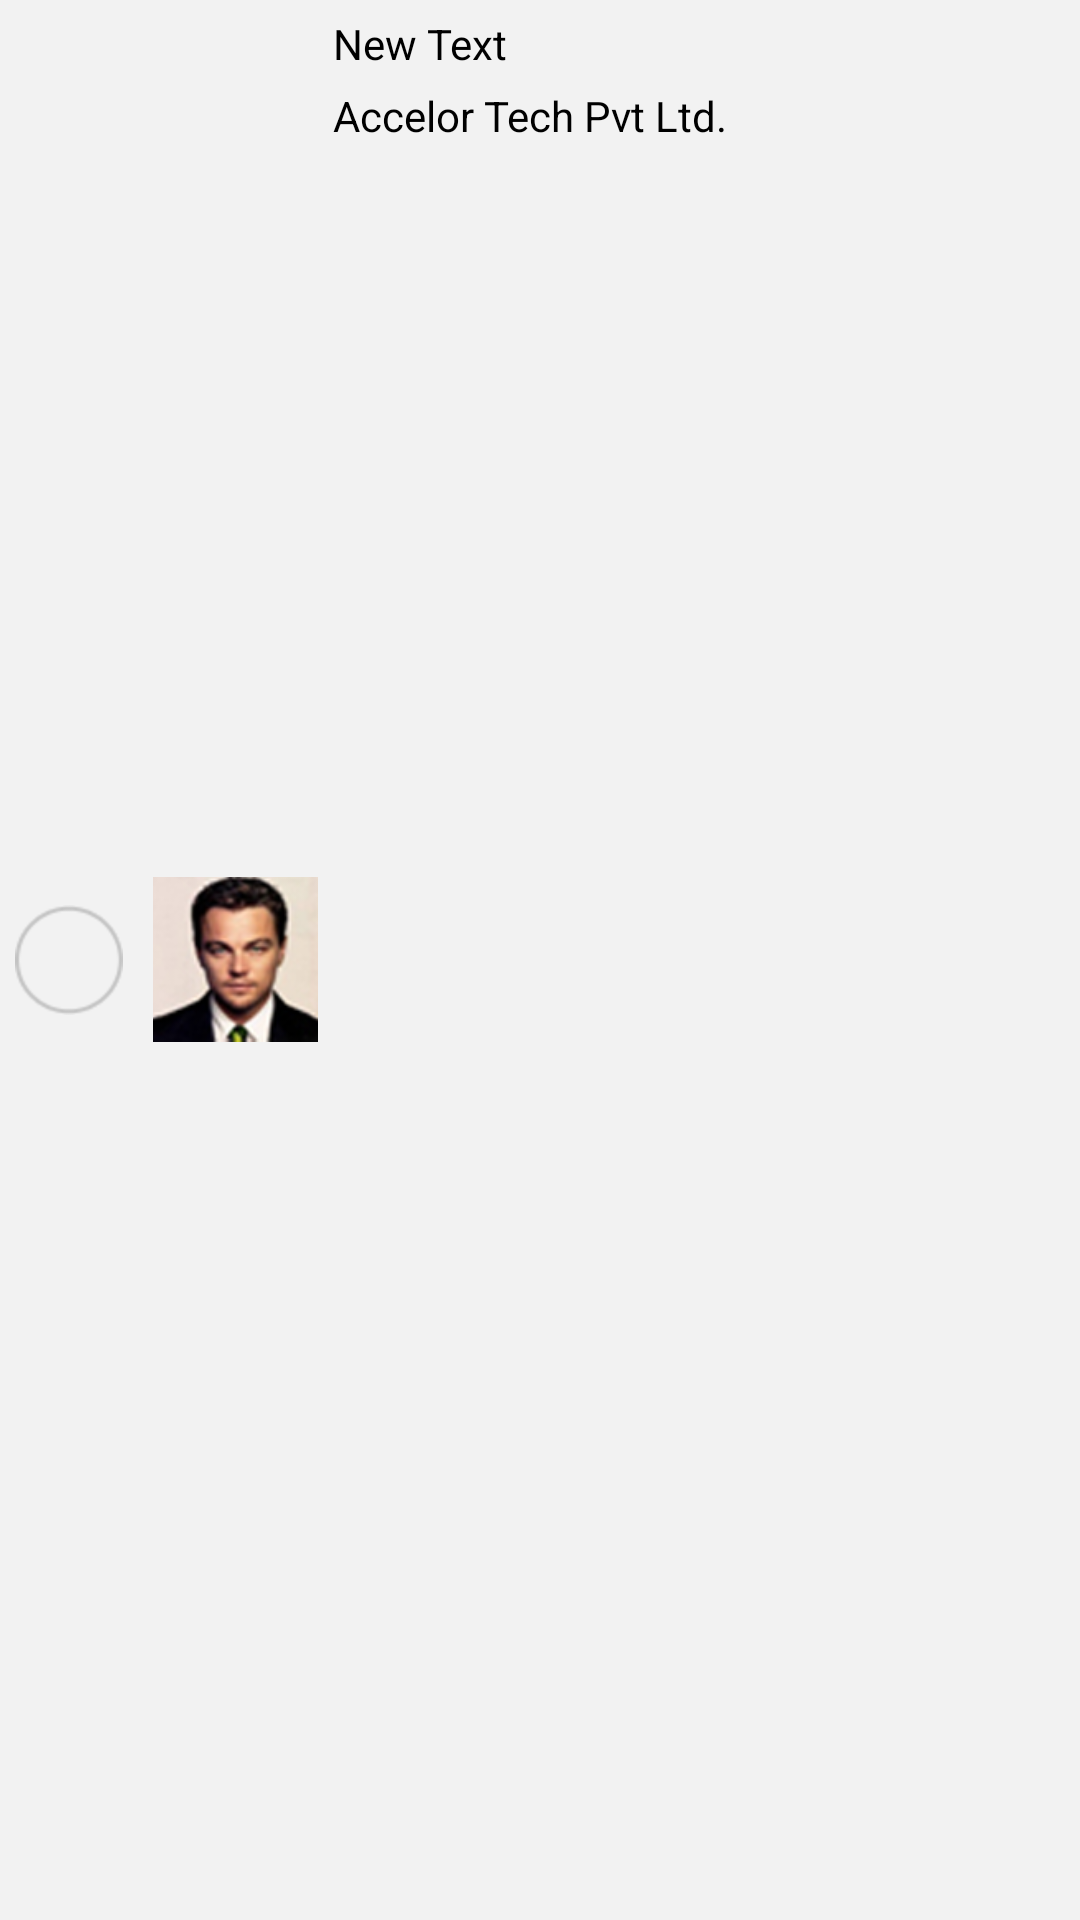

Named icons in this screenshot (1080px×1920px) and their centers, point (x, y):
user profile pic: point (235, 959)
